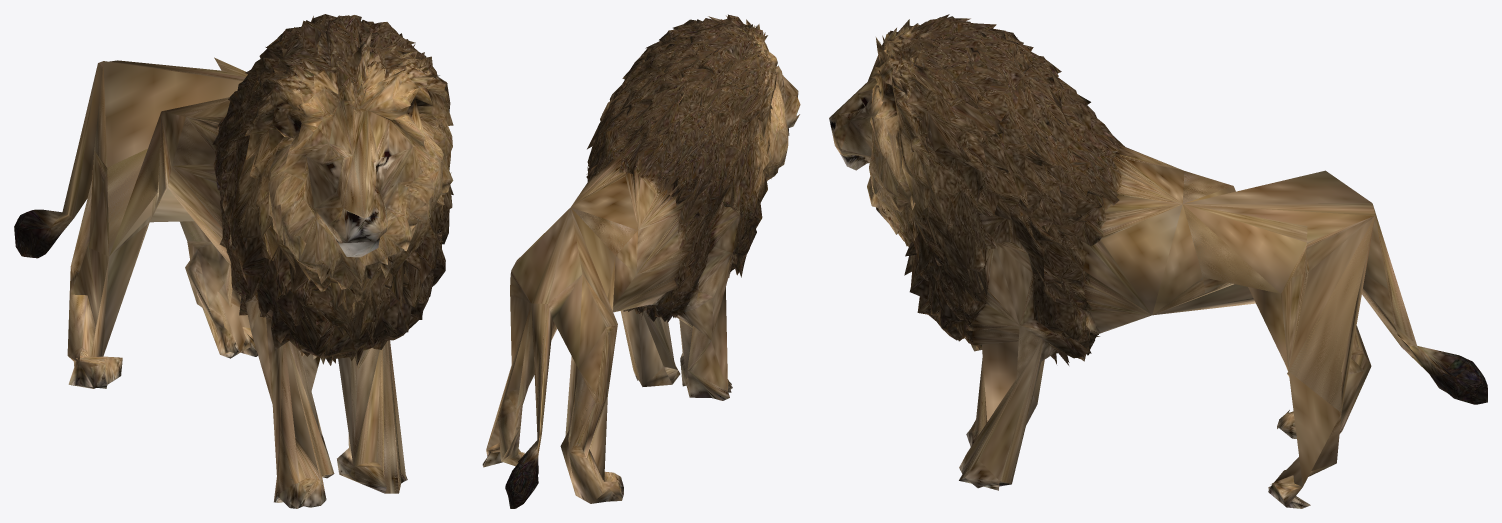
Rendered from loewe.glb.
The picture shows the model from 3 angles, left to right: view 1: azimuth 30°, elevation 25°; view 2: azimuth 150°, elevation 25°; view 3: azimuth 270°, elevation 25°; orthographic projection. The views are drawn at different scales.
Bounding box in the file's own units: 0.6186 × 1.37 × 1.88.
1 material, 1 textured.
